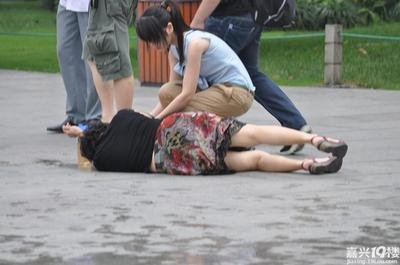fall: (57, 104, 352, 178)
